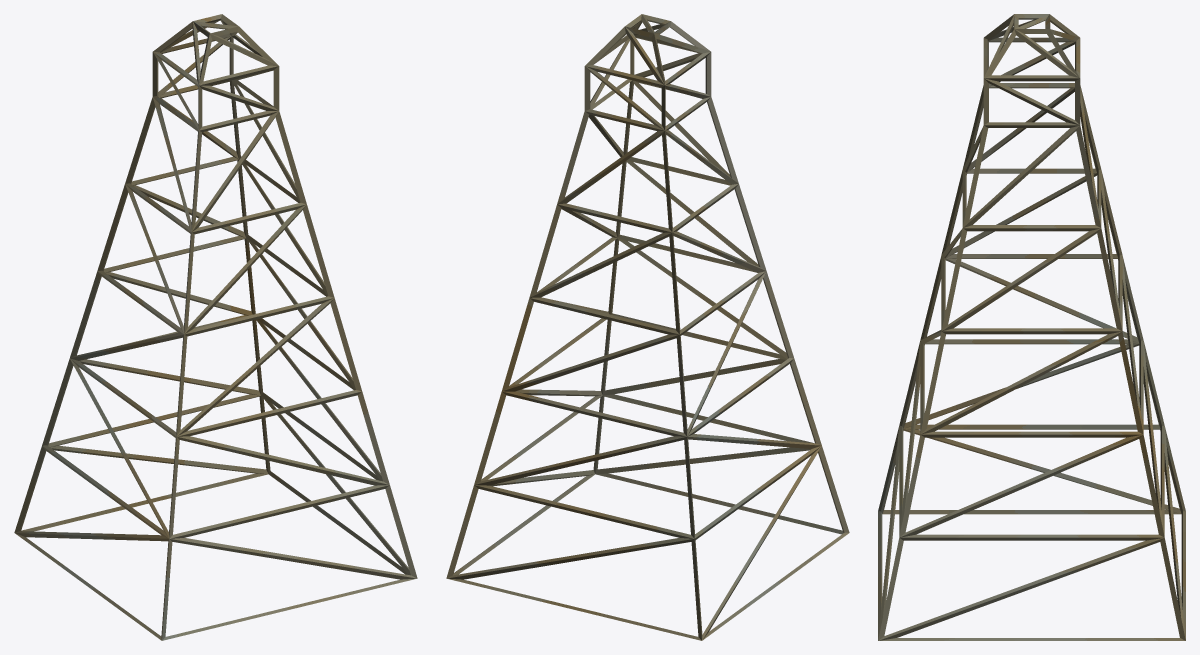
The model's file is tower.fbx.
3 views of the same model, side by side, from view 1: azimuth 30°, elevation 25°; view 2: azimuth 150°, elevation 25°; view 3: azimuth 270°, elevation 25° (orthographic). The views are drawn at different scales.
Visible parts, largest first — view 1: tower; view 2: tower; view 3: tower.
Part boxes in pixels (x1,y1,x2,y2): tower: (14,14,417,640); tower: (446,14,849,640); tower: (878,14,1185,640).
Bounding box in the file's own units: 2281 × 4547 × 2281.
1 material, 1 textured.
